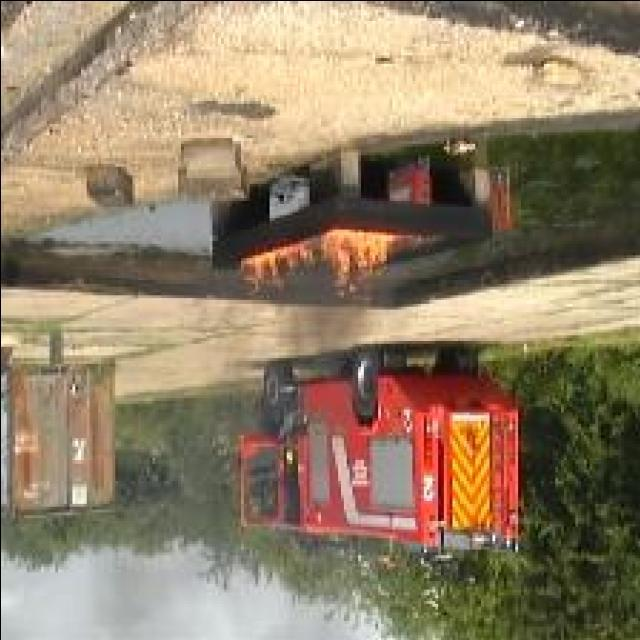Fire: (240, 224, 417, 302)
